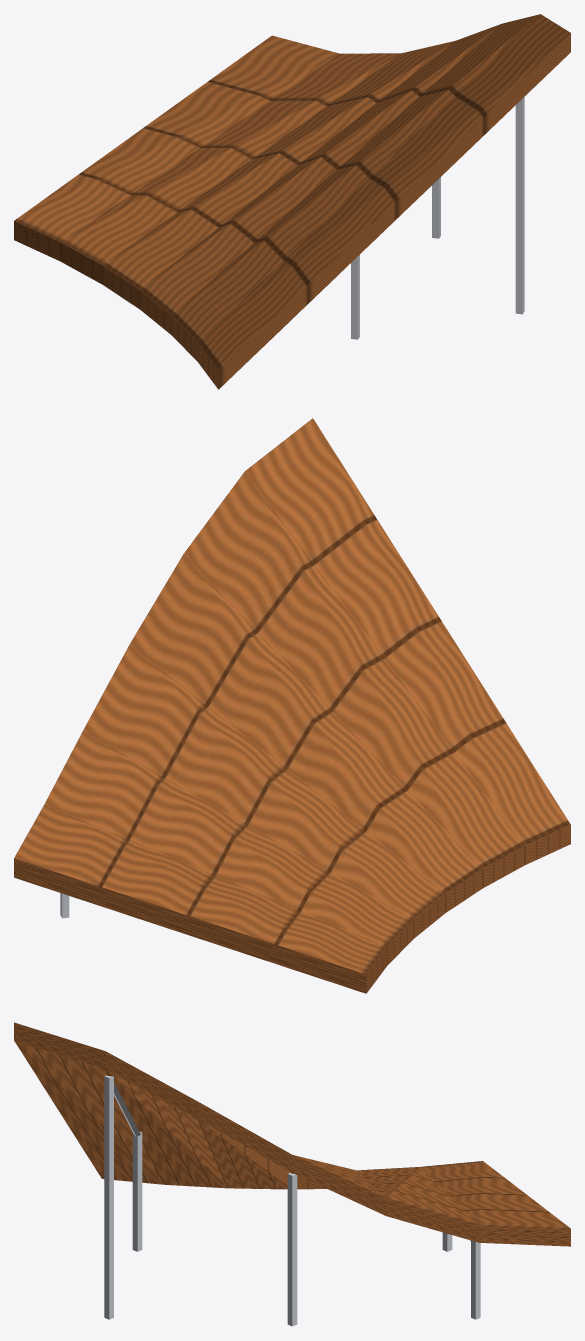
The model's file is velodrome-and-track-cycling-banked-track-transition-mo-6b08e62d__37975.glb.
3 renders of one model, top to bottom at view 1: azimuth 30°, elevation 25°; view 2: azimuth 150°, elevation 25°; view 3: azimuth 270°, elevation 25°, orthographic. The views are drawn at different scales.
Parts seen in each view (by area): view 1: banked-track-transition-module-board, banked-track-transition-module-steel; view 2: banked-track-transition-module-board; view 3: banked-track-transition-module-board, banked-track-transition-module-steel.
Part boxes in pixels (bbox=[...]): banked-track-transition-module-board: bbox=[14, 14, 570, 389]; banked-track-transition-module-steel: bbox=[351, 97, 524, 339]; banked-track-transition-module-board: bbox=[14, 418, 570, 993]; banked-track-transition-module-board: bbox=[14, 1022, 570, 1246]; banked-track-transition-module-steel: bbox=[104, 1075, 480, 1326].
Bounding box in the file's own units: 6.44 × 5.75 × 9.84.
2 materials, 1 textured.
